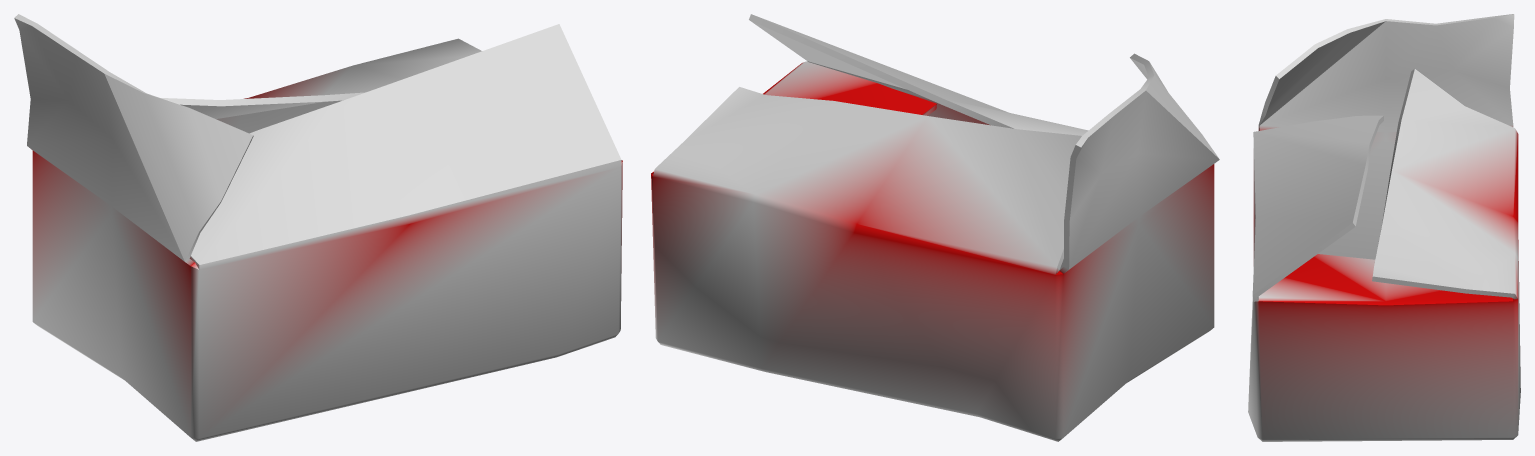
The model's file is Attic_Box_07_LP.glb.
3 views of the same model, side by side, from view 1: azimuth 30°, elevation 25°; view 2: azimuth 150°, elevation 25°; view 3: azimuth 270°, elevation 25° (orthographic). The views are drawn at different scales.
Visible parts, largest first — view 1: Attic_Box_07_LP; view 2: Attic_Box_07_LP; view 3: Attic_Box_07_LP.
Boxes of the visible parts, x1,y1,x2,y2 form: Attic_Box_07_LP: [14, 14, 622, 441]; Attic_Box_07_LP: [651, 14, 1219, 441]; Attic_Box_07_LP: [1248, 14, 1520, 441].
Bounding box in the file's own units: 0.795 × 0.5328 × 0.5172.
